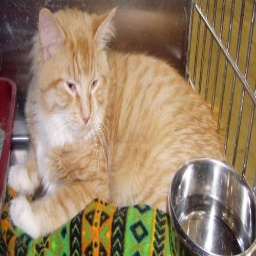cat: (5, 12, 223, 238)
